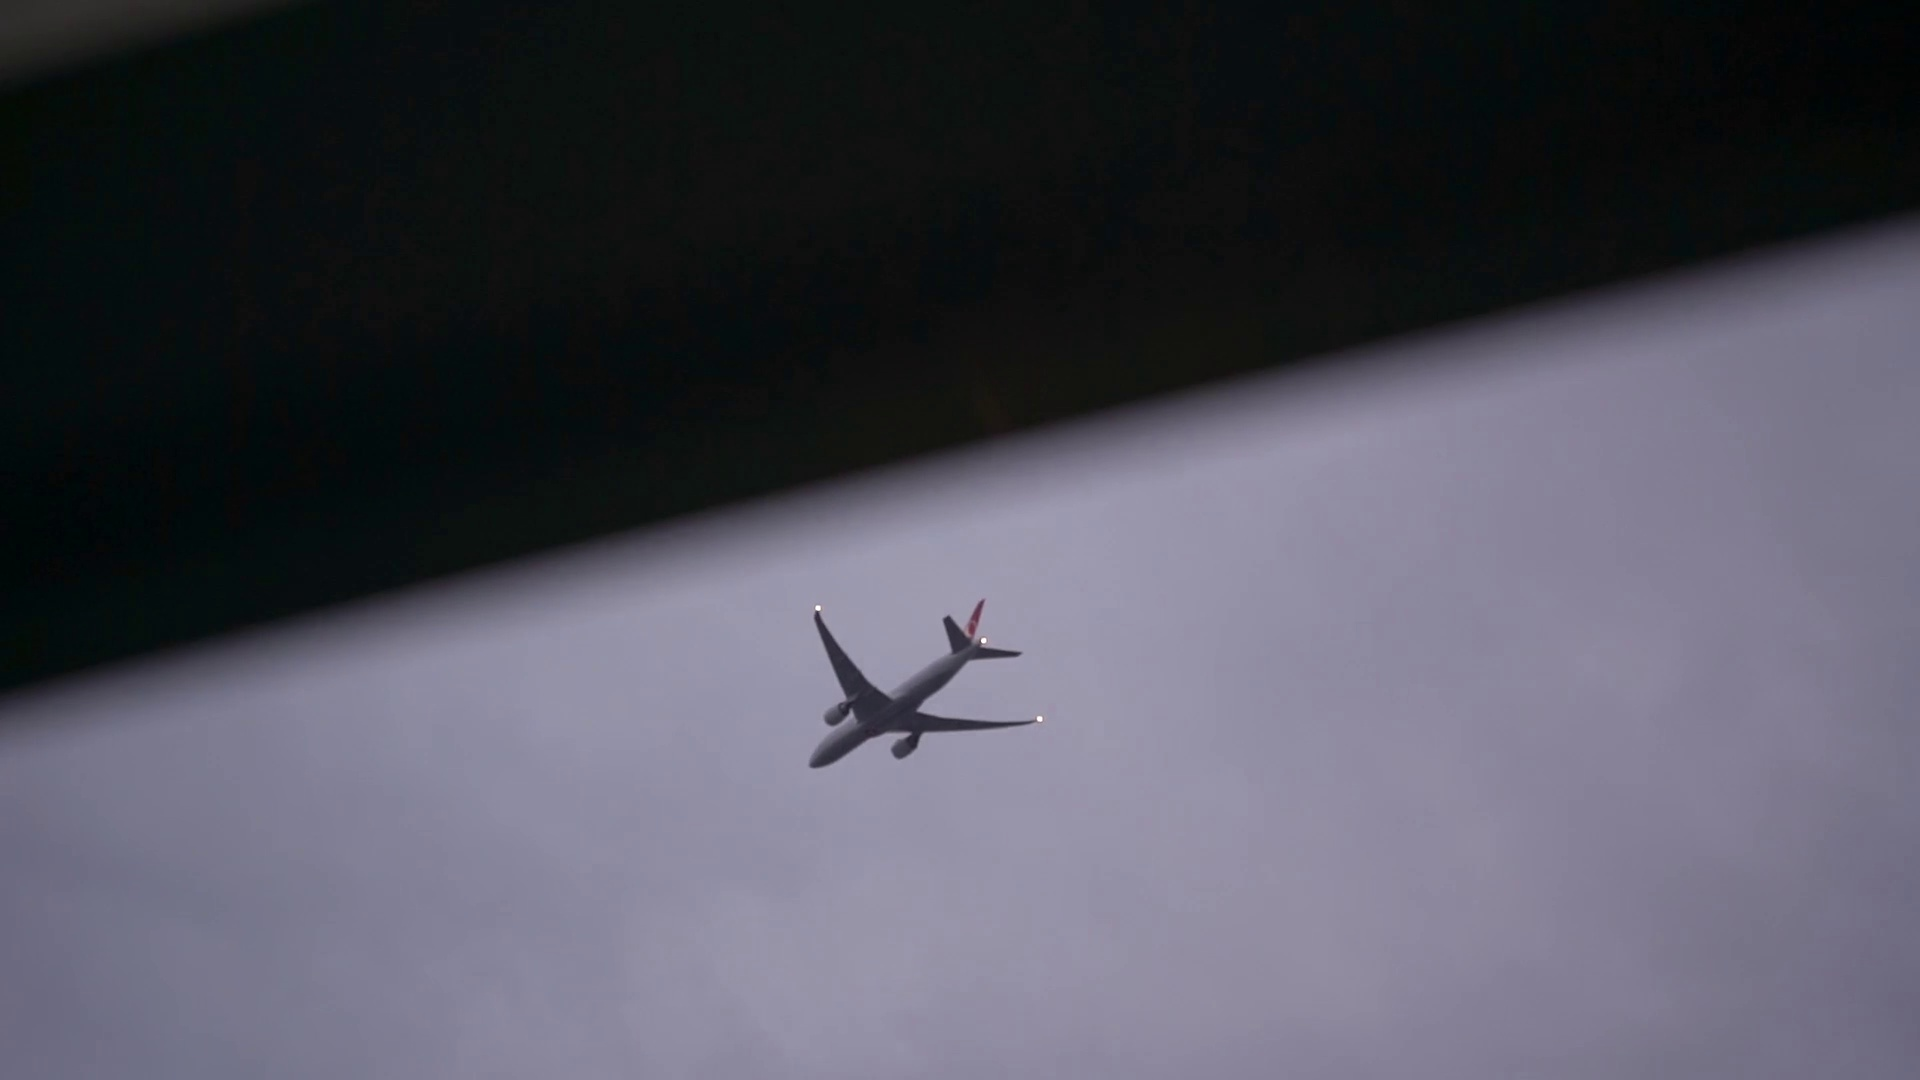plane: (806, 596, 1044, 771)
